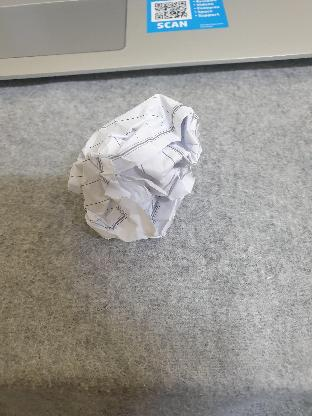Paper: (60, 88, 208, 256)
